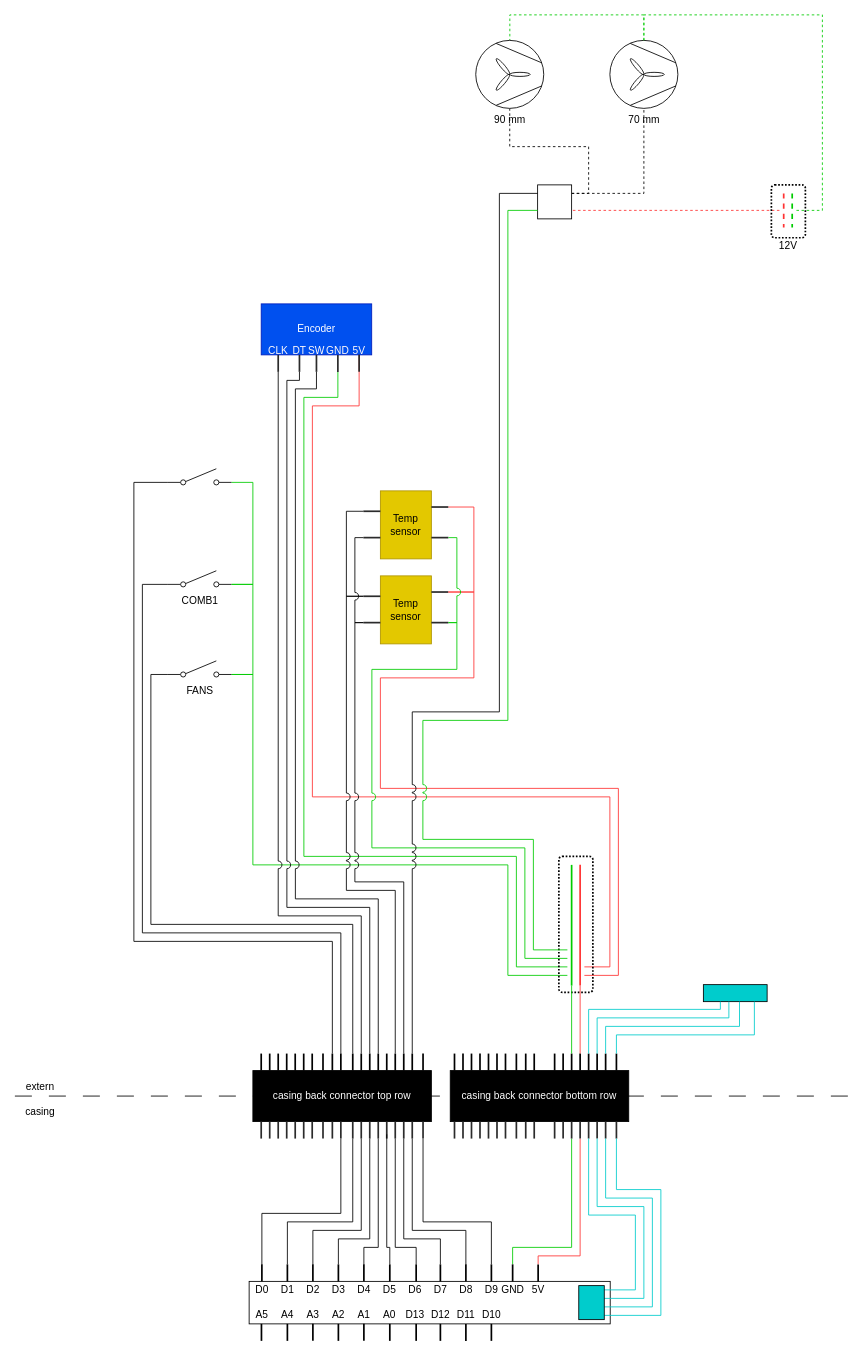
This 863x1357 diagram has some shape labels left out. The centre of each missing label's shape, as x and y in pixels:
"COMB2" belongs at [199,477].
"header usb" belongs at [735,993].
"micro usb" belongs at [591,1302].
"Relé" belongs at [554,201].
